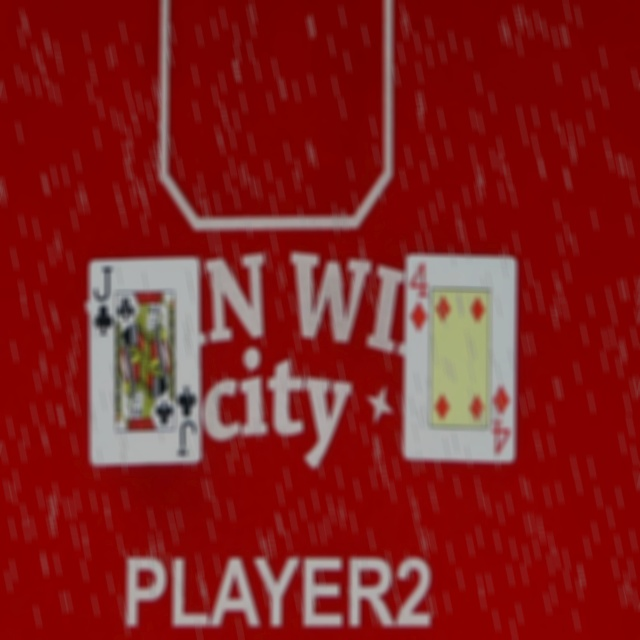4D: (491, 381, 517, 457), (407, 255, 431, 336)
JC: (87, 262, 114, 339), (175, 380, 200, 459)
